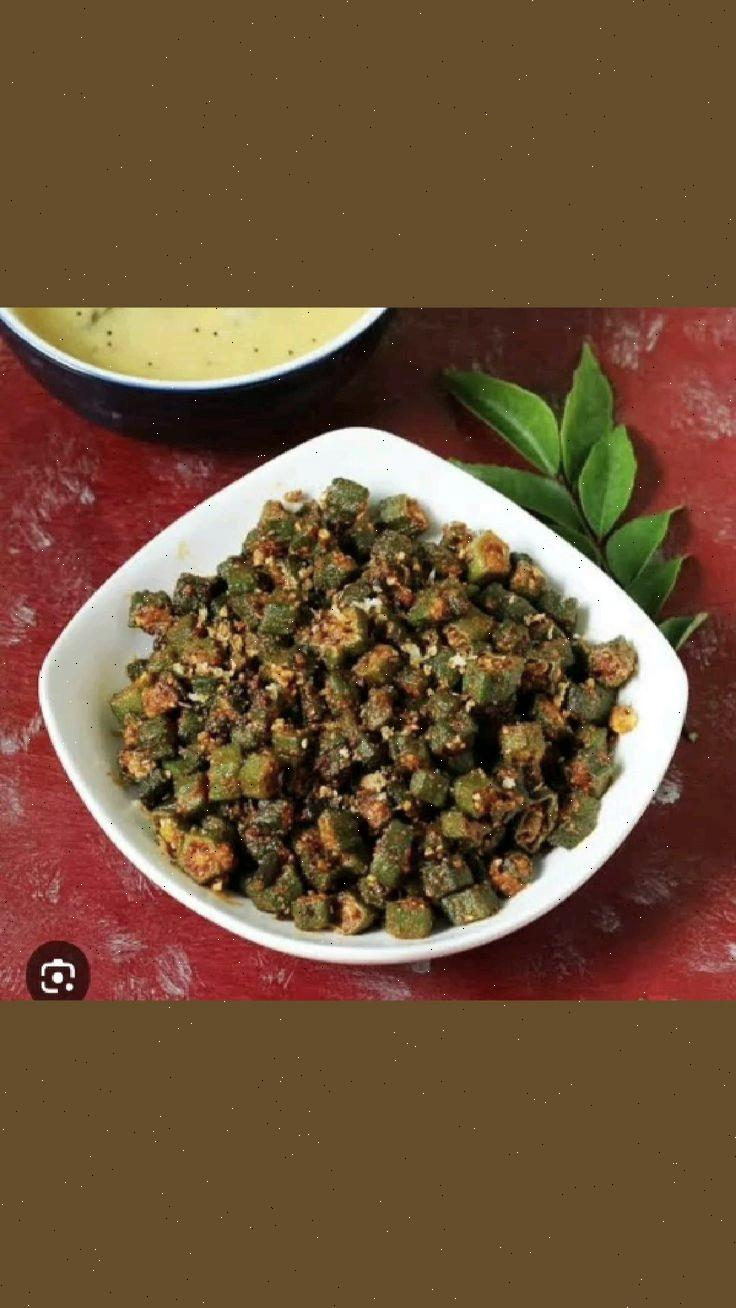bhindi: (148, 581, 588, 870)
